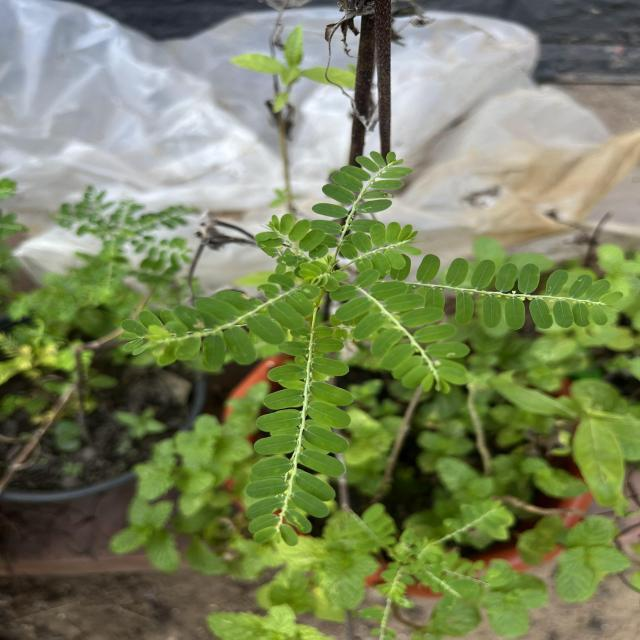Phyllanthus niruri: (243, 322, 354, 549), (374, 251, 628, 331), (326, 266, 475, 394), (156, 271, 318, 372), (310, 146, 417, 252)
